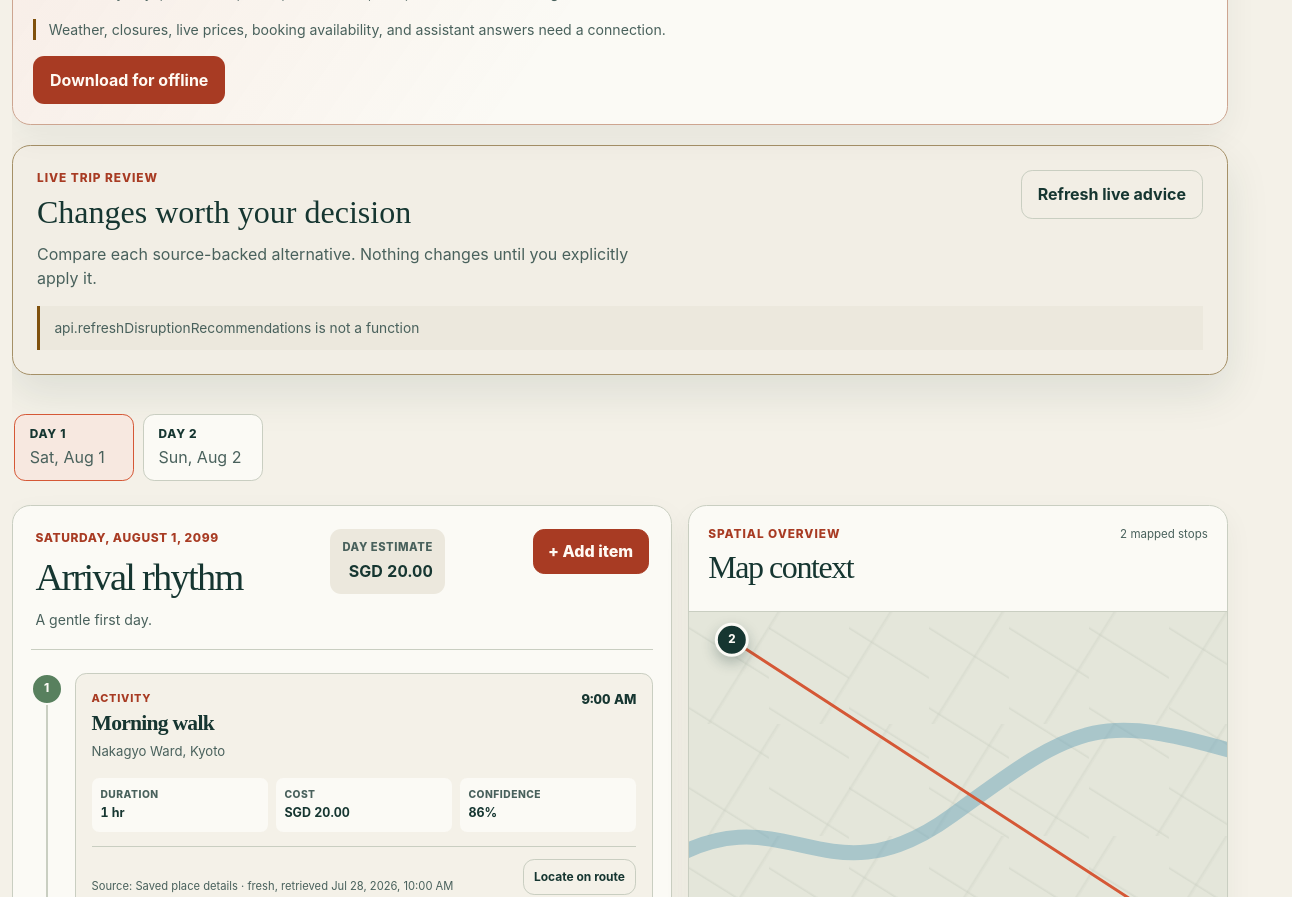
Test: ItineraryWorkspace › keeps loaded details usable during offline and provider-unavailable states
(page scrolled)
Click the tab "Day 2 Sun, Aug 2".
click(203, 448)  # box [143, 414, 263, 481]
(page scrolled)
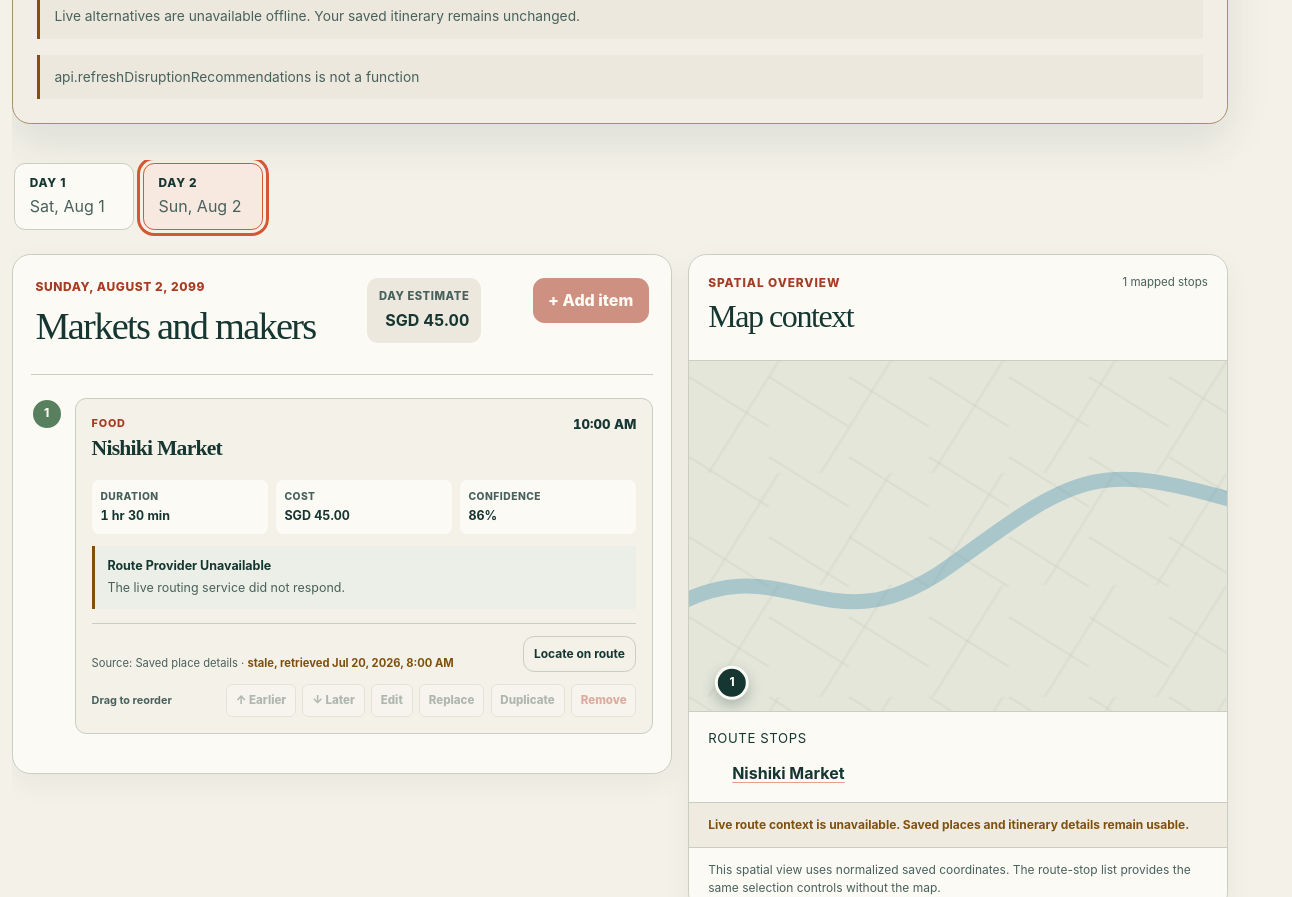
Check: the text "Route provider unavailable" is shown, box [107, 558, 271, 573]
Check: the text "Saved places and itinerary details remain usable" is shown, box [708, 818, 1189, 833]
Check: the heading "Nishiki Market" is shown, box [92, 432, 222, 464]
